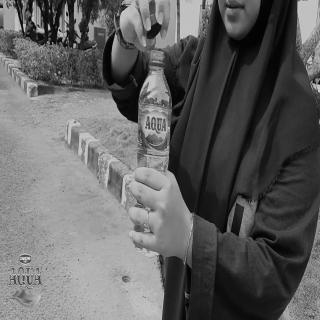plastic_bottles: (136, 39, 173, 260)
